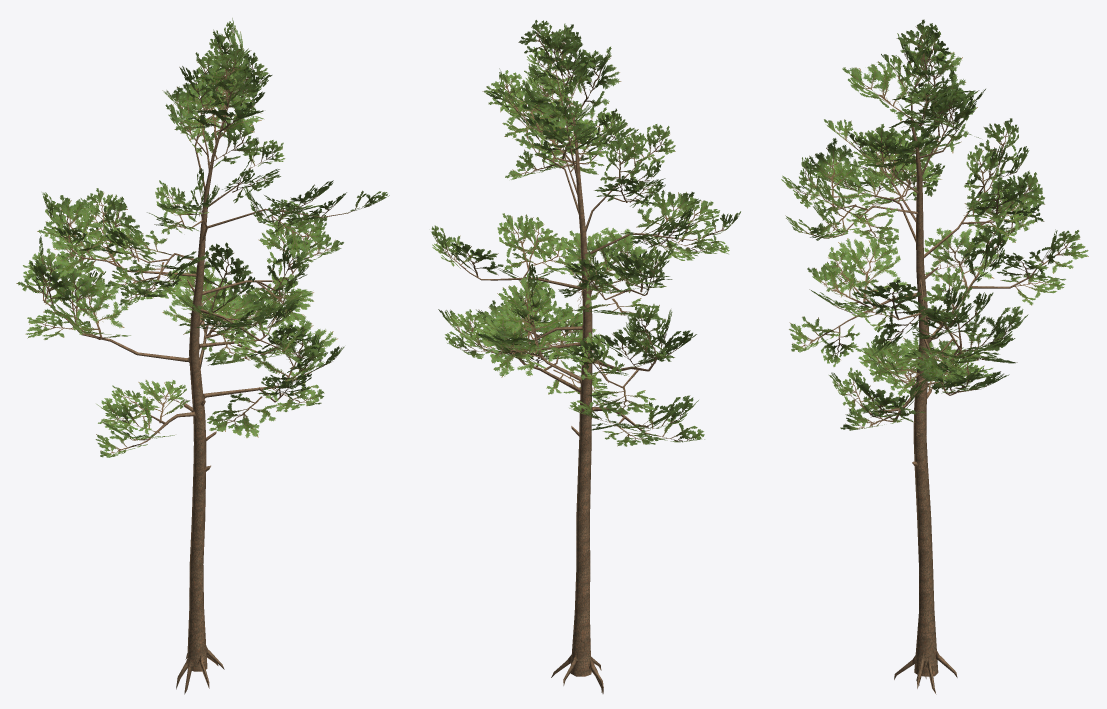
Rendered from w_pine2.glb.
3 renders of one model, left to right at view 1: azimuth 30°, elevation 25°; view 2: azimuth 150°, elevation 25°; view 3: azimuth 270°, elevation 25°, orthographic. The views are drawn at different scales.
Visible parts, largest first — view 1: body|Clusters_Mat, body|Bark_Mat; view 2: body|Clusters_Mat, body|Bark_Mat; view 3: body|Clusters_Mat, body|Bark_Mat.
Boxes of the visible parts, x1=… form: body|Clusters_Mat: x1=16, y1=18, x2=389, y2=457; body|Bark_Mat: x1=43, y1=69, x2=348, y2=694; body|Clusters_Mat: x1=431, y1=20, x2=740, y2=446; body|Bark_Mat: x1=460, y1=55, x2=705, y2=693; body|Clusters_Mat: x1=781, y1=19, x2=1088, y2=464; body|Bark_Mat: x1=820, y1=60, x2=1036, y2=694.
Bounding box in the file's own units: 8.69 × 19.62 × 8.17.
2 materials, 2 textured.
